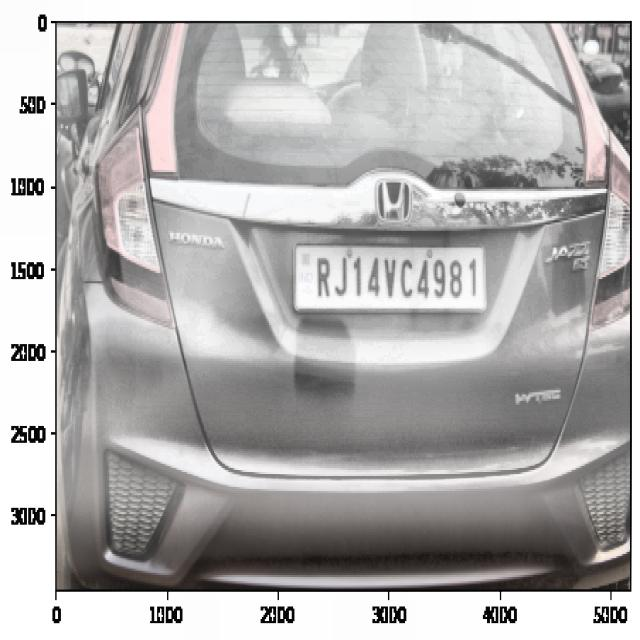license_plate: (312, 248, 484, 314)
